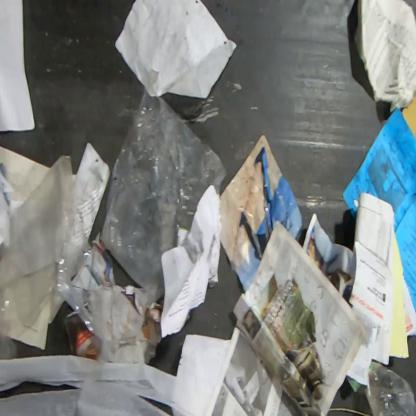soft_plastic: (100, 86, 230, 310), (0, 153, 95, 360), (86, 283, 152, 364), (363, 360, 415, 415)
